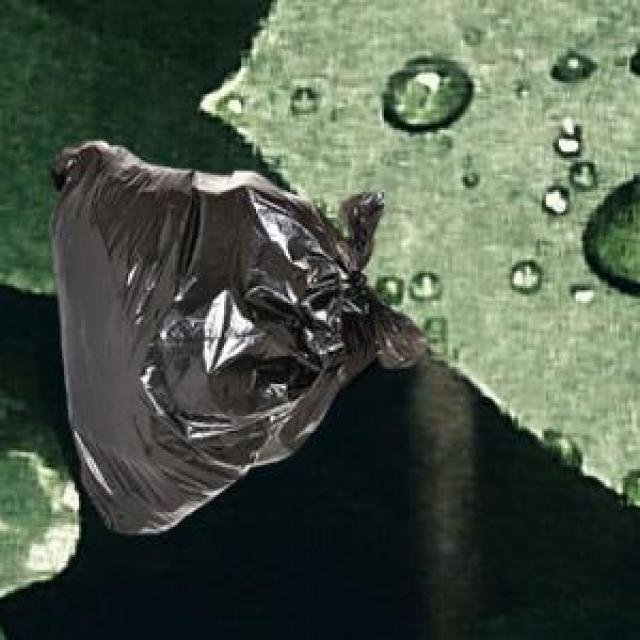Trashbag: (49, 133, 432, 544)
